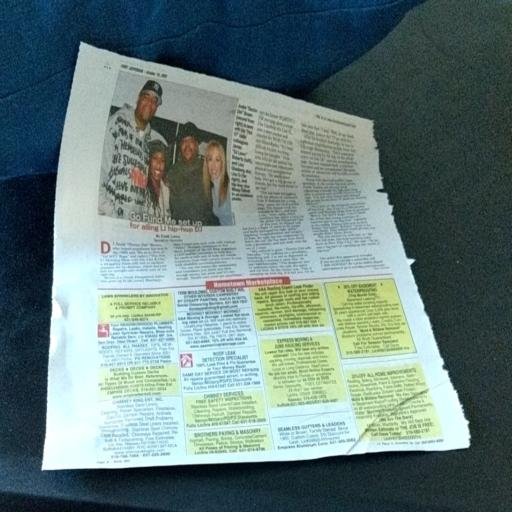paper: (20, 25, 504, 505)
